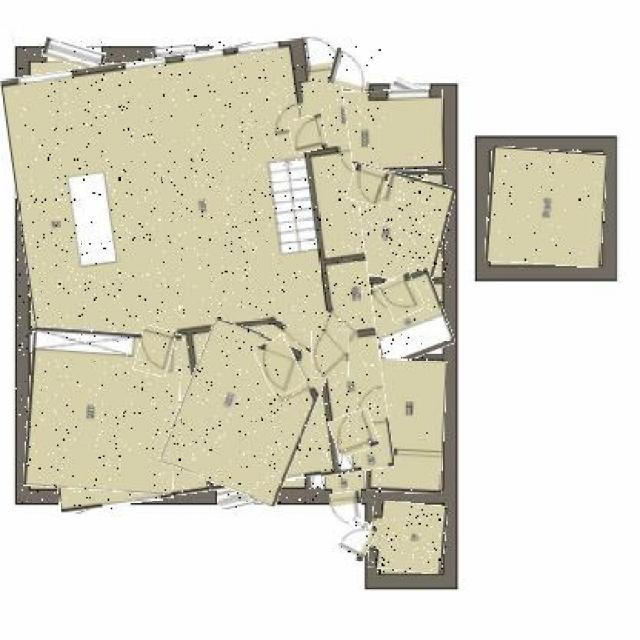door: (258, 337, 302, 395), (331, 411, 377, 455), (135, 326, 174, 376), (312, 329, 350, 378), (382, 274, 422, 318), (331, 51, 371, 91), (348, 166, 388, 205), (340, 518, 374, 560), (290, 116, 328, 152), (331, 490, 363, 528)
window: (43, 40, 106, 69), (69, 483, 129, 509), (218, 484, 274, 508), (212, 42, 254, 64), (268, 43, 310, 65), (392, 82, 430, 103), (152, 46, 194, 62)
zone: (15, 45, 380, 503), (171, 326, 320, 499), (26, 329, 179, 491), (320, 166, 449, 283), (486, 149, 605, 266), (366, 360, 445, 492), (325, 90, 443, 172), (364, 274, 450, 363), (369, 503, 446, 574)
